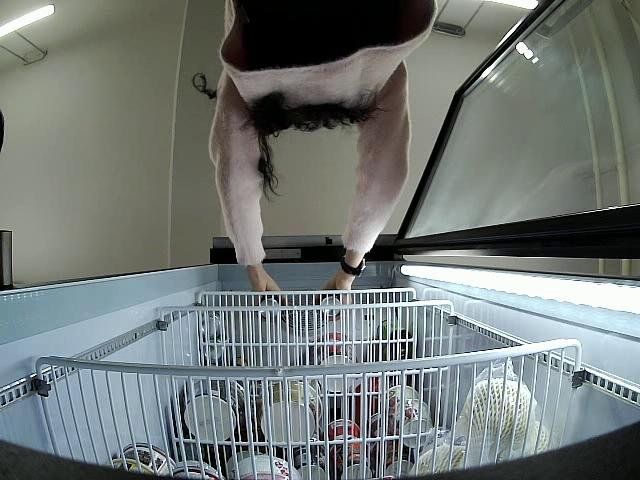00_hand: (323, 275, 351, 305), (253, 277, 285, 303)
